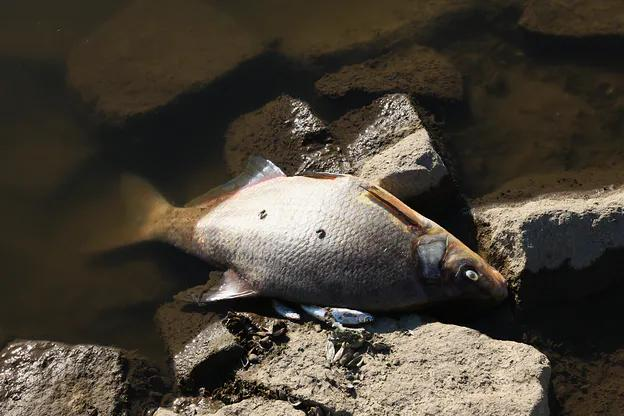Fish: (99, 139, 517, 336)
